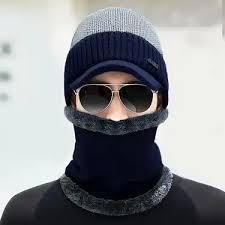cap: (61, 5, 174, 96)
scarf-kerchief: (52, 102, 184, 218)
sunglasses: (75, 81, 161, 118)
